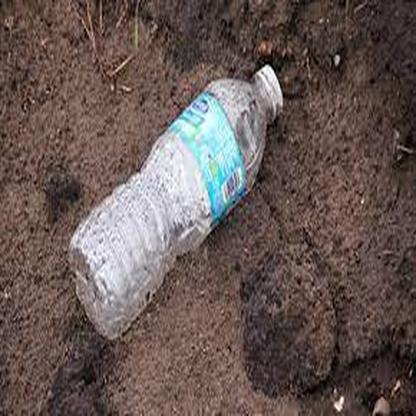plastic bottle: (67, 65, 286, 337)
